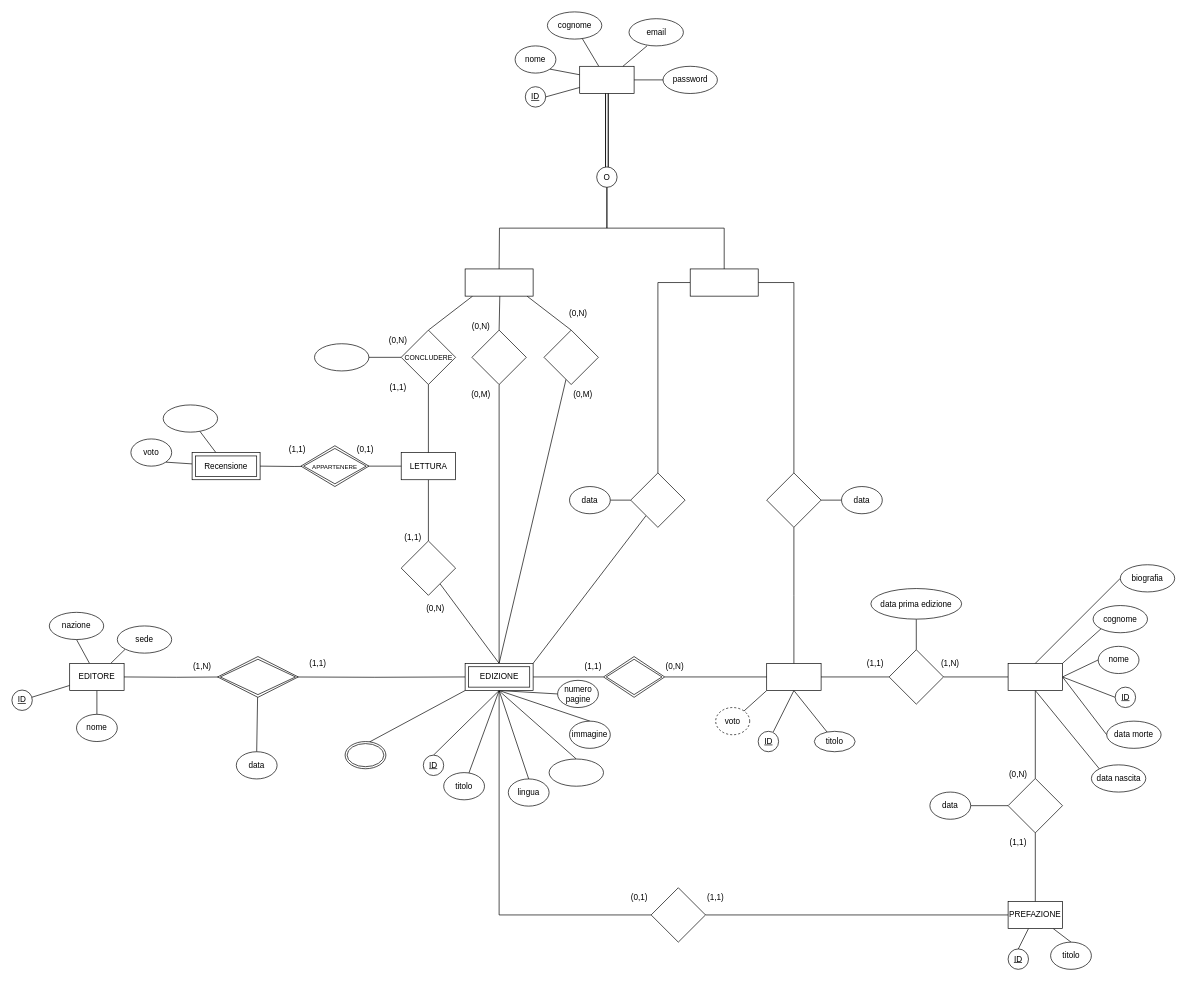
This 1187x981 diagram has some shape labels left out. The centre of each missing label's shape, as x and y in pixels:
ADMIN: the point at 724,282
ANTICIPARE: the point at 678,914
AUTORE: the point at 1034,677
data fine: the point at 341,357
descrizione: the point at 190,418
didascalia: the point at 576,772
generi: the point at 365,755
LIBRO: the point at 793,677
PERSONA: the point at 606,80
PUBBLICARE: the point at 257,676
REGISTRARE_E: the point at 657,499
REGISTRARE_L: the point at 793,499
RIFERIRE: the point at 428,567
SCRIVERE_L: the point at 916,676
SCRIVERE_P: the point at 1034,805
STA LEGGENDO: the point at 570,357
STAMPARE: the point at 634,676
UTENTE: the point at 498,282
VUOLE LEGGERE: the point at 498,357
